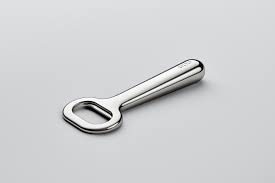bottleopener: (62, 59, 205, 135)
